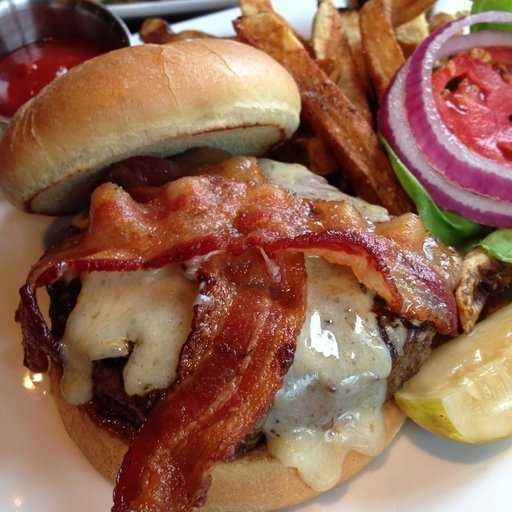hamburger: (17, 36, 403, 493)
